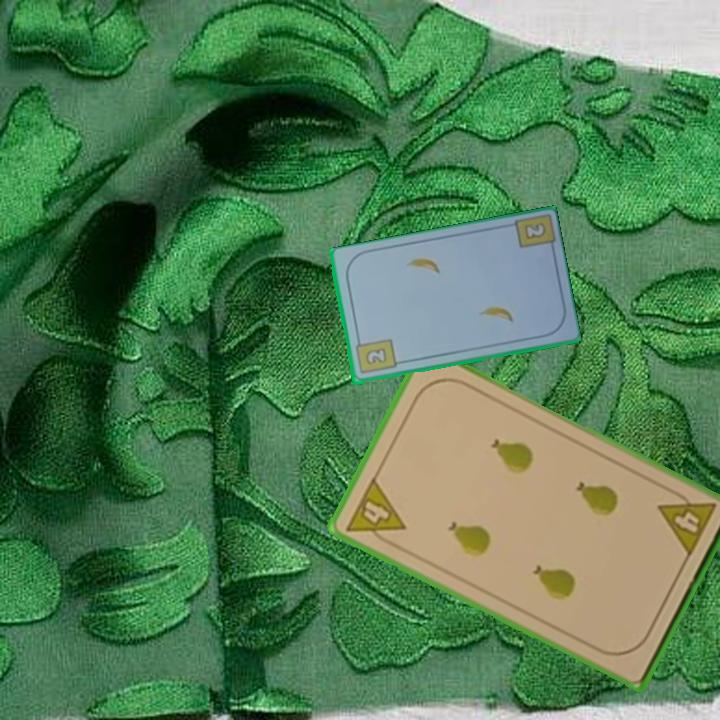2b: (352, 335, 399, 377), (520, 219, 549, 243)
4p: (342, 473, 409, 551), (654, 484, 719, 560)
